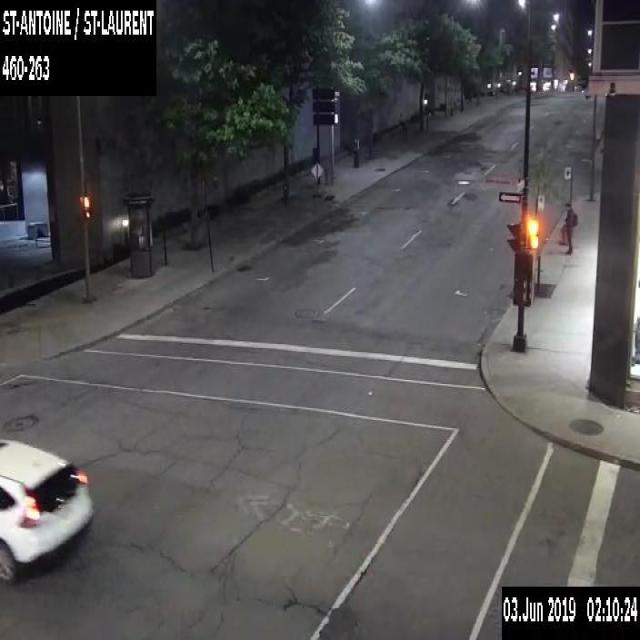pedestrian: (563, 203, 577, 252)
vehicle: (0, 437, 95, 587)
